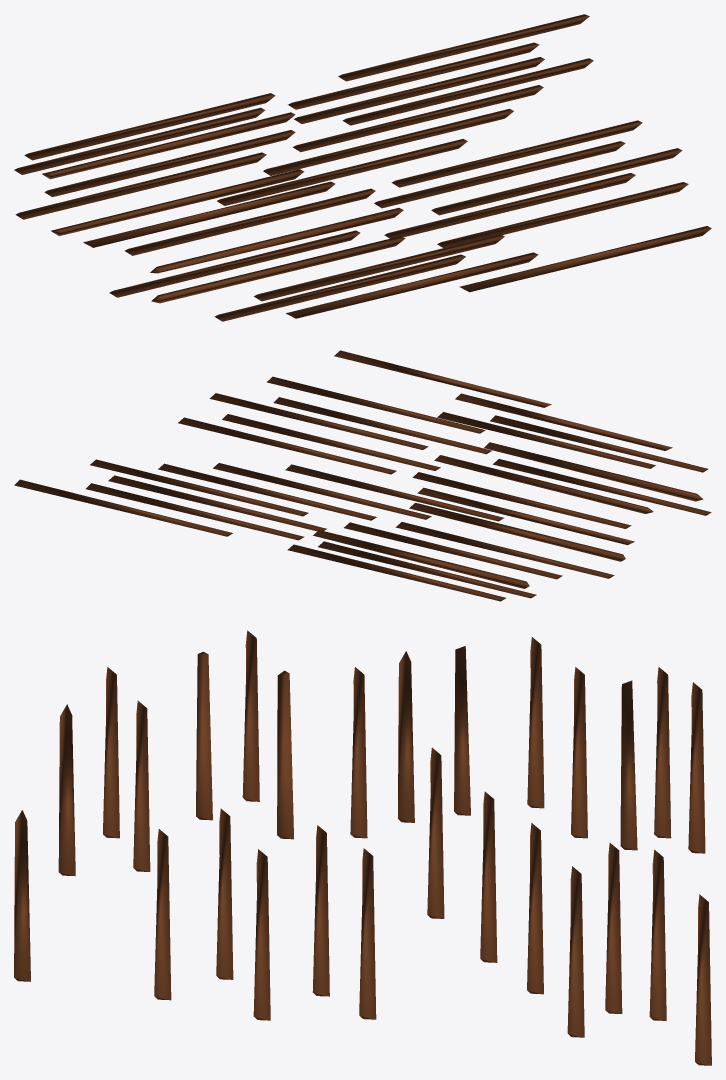
The model's file is arrow_volley.fbx.
3 renders of one model, top to bottom at view 1: azimuth 30°, elevation 25°; view 2: azimuth 150°, elevation 25°; view 3: azimuth 270°, elevation 25°, orthographic. The views are drawn at different scales.
Parts seen in each view (by area): view 1: Cylinder.025; view 2: Cylinder.025; view 3: Cylinder.025.
Part boxes in pixels (box(x1,y1,x2,y2)): Cylinder.025: box(14, 14, 711, 321); Cylinder.025: box(14, 350, 711, 601); Cylinder.025: box(14, 630, 711, 1065).
Size of the model in its own units: 2645 by 31.11 by 1804.
